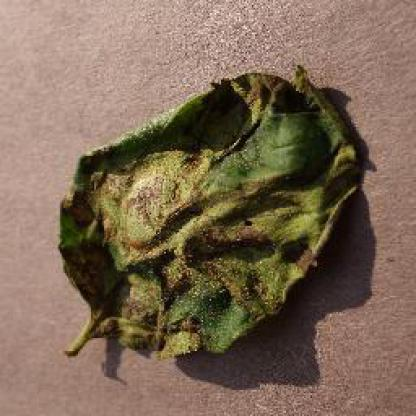bad leaf: (34, 37, 402, 384)
